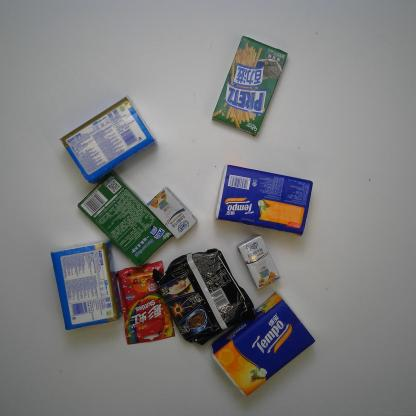Candy: (114, 260, 176, 346)
Dessert: (76, 167, 173, 272), (209, 34, 289, 140)
Instant Noodles: (152, 247, 256, 348)
Milk: (144, 186, 198, 241), (236, 233, 280, 289)
Tissue: (210, 290, 316, 397), (59, 95, 158, 184), (214, 163, 313, 237), (49, 236, 122, 332)
